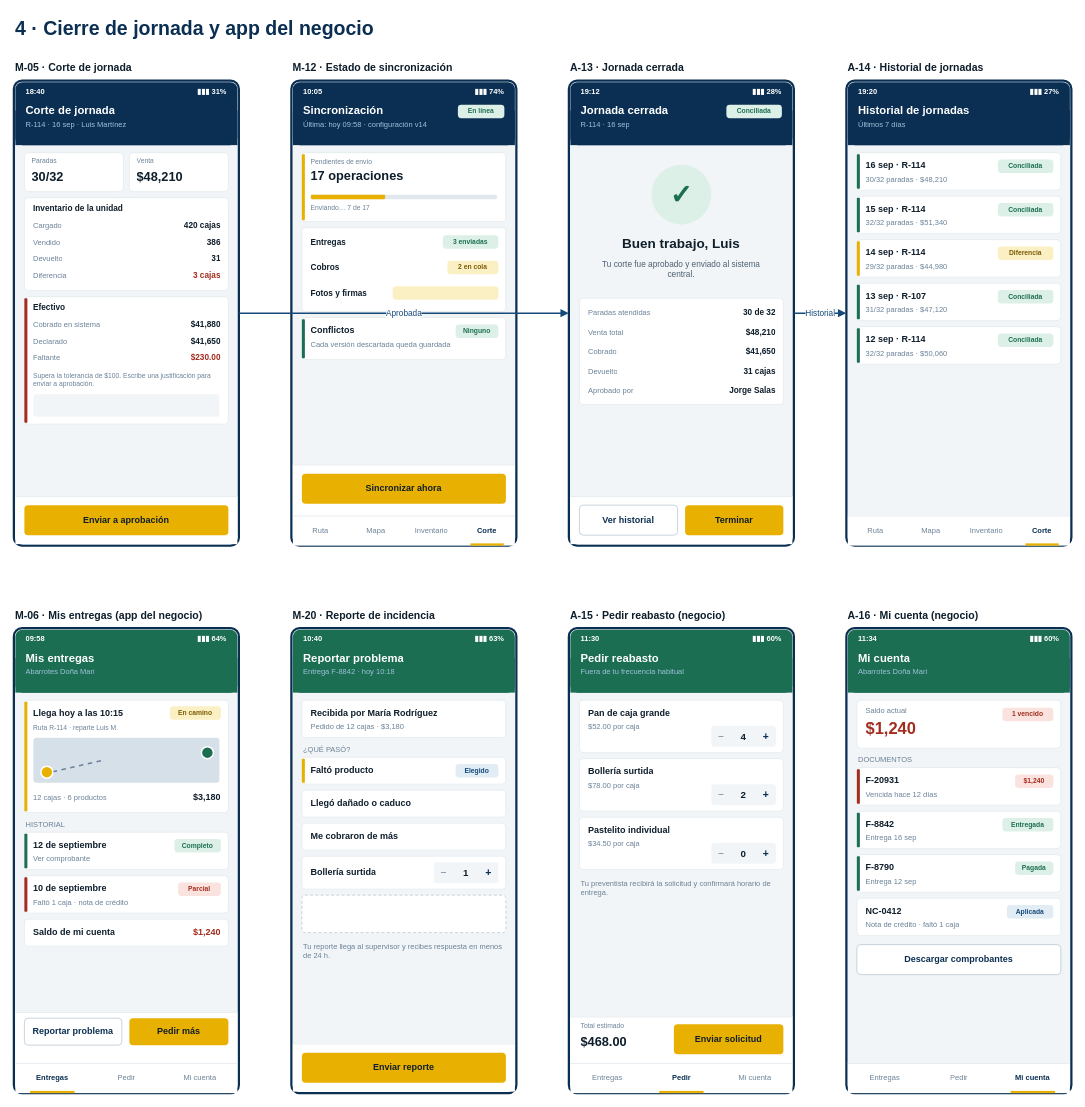
Image size: 1085x1107. Some labels were removed from this diagram. The centre of each missing label's shape, as x and y in pixels:
12 esperan buena señal: [445,292]
Escribe qué ocurrió…: [126,405]
Tomar foto de evidencia: [403,913]
